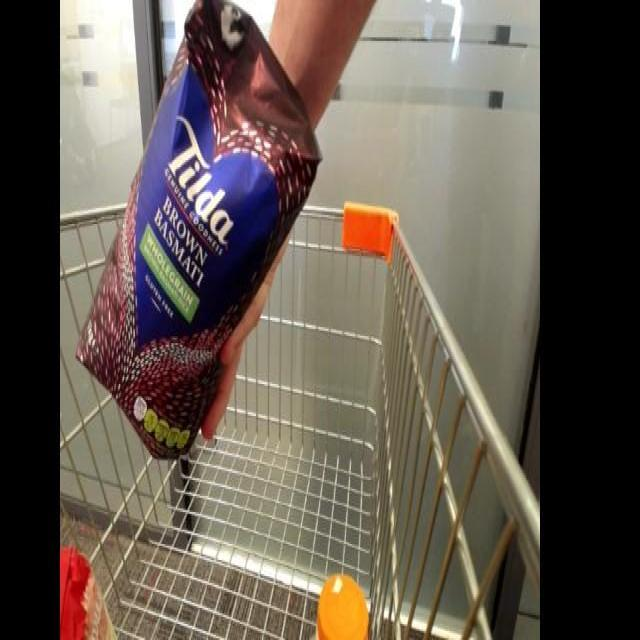Tida: (72, 1, 338, 467)
